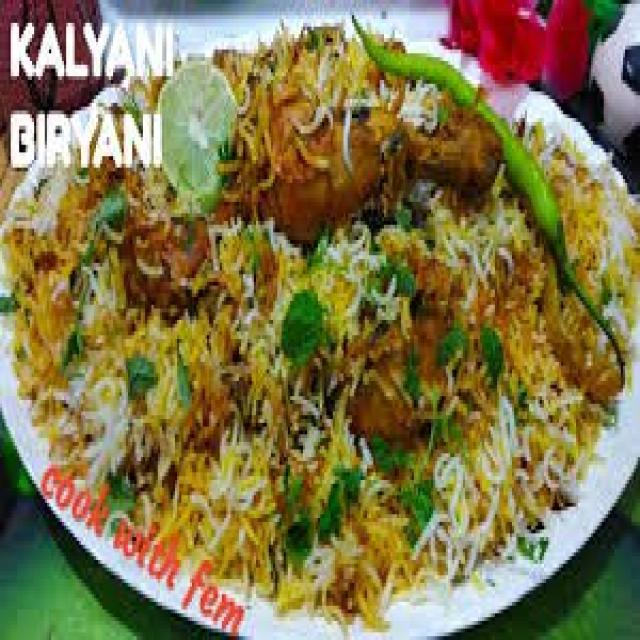chicken biryani: (178, 46, 590, 612)
